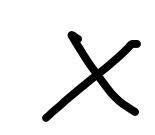mult: (43, 31, 141, 122)
